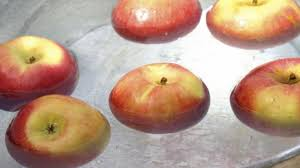apple: (11, 94, 108, 165), (112, 63, 212, 131), (230, 58, 300, 131), (4, 34, 77, 97), (209, 1, 298, 49), (111, 1, 204, 45)
